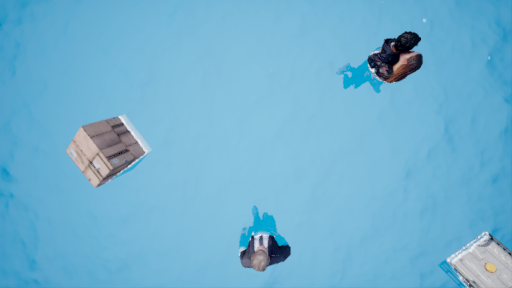person: (339, 29, 427, 99), (237, 210, 296, 272)
